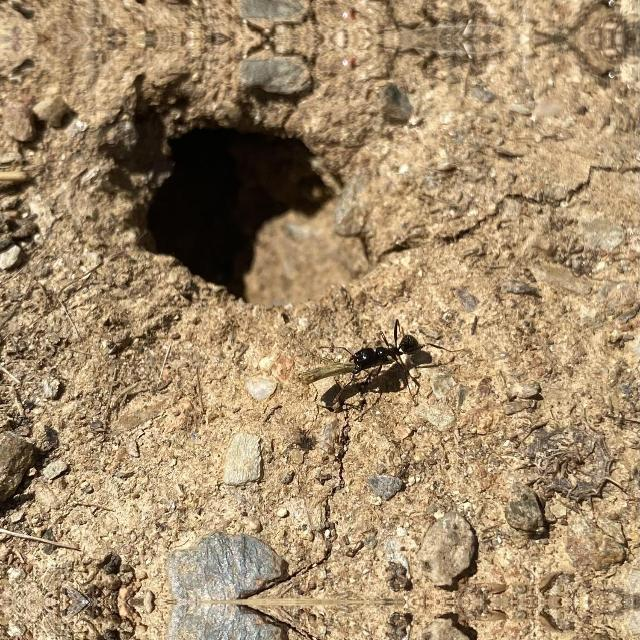Messor: (344, 316, 431, 389)
